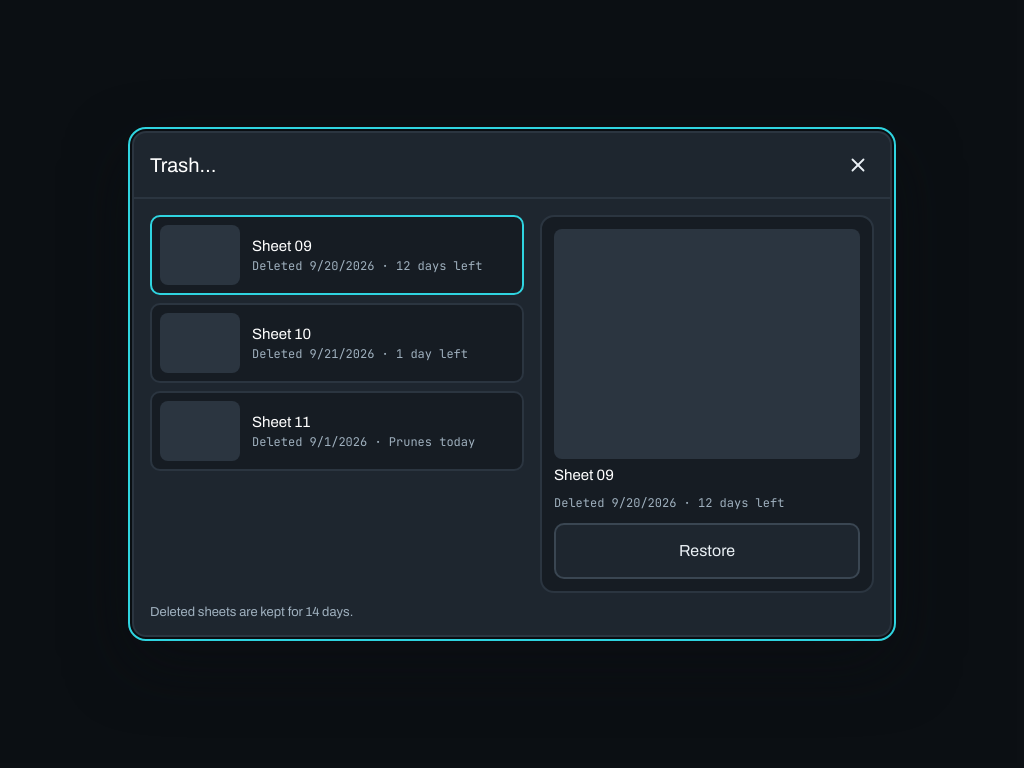
read-only preview + Restore (P §11.9:2029) › previews the newest row by default and switches on selection
The image size is (1024, 768).
Expected: the element named "Preview" shows "Sheet 09", [554,467,614,483]
Step 1. Click the button with test id "trash-row-t2" → (337, 343), box [150,303,524,383]
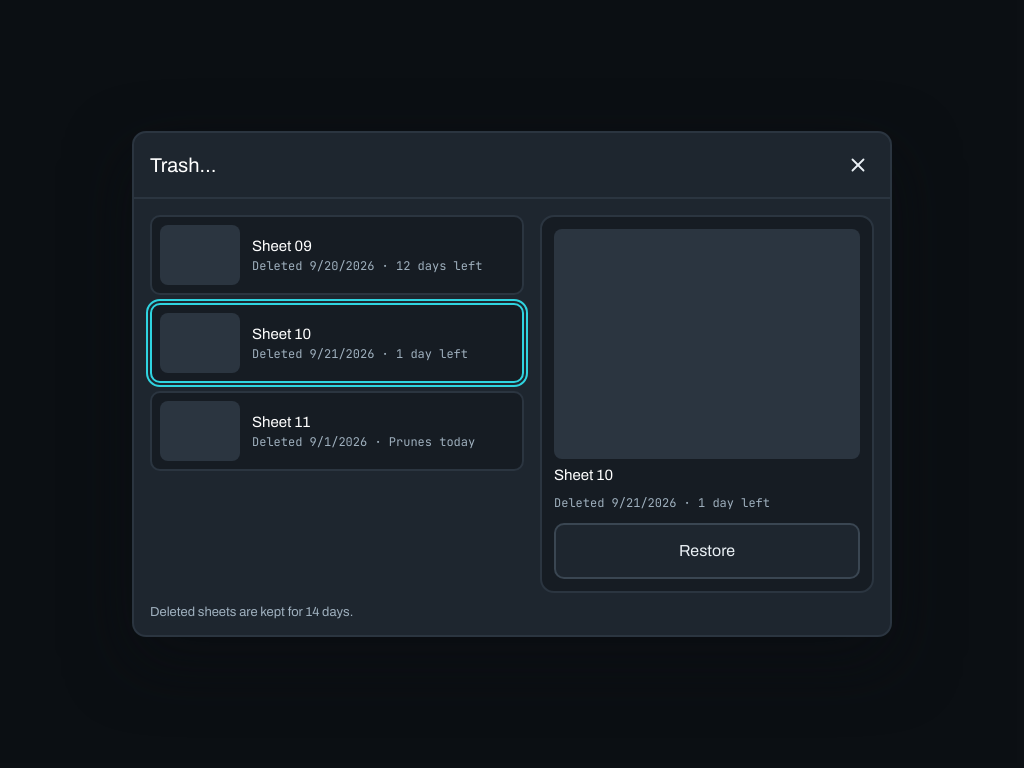
Now the element named "Preview" shows "Sheet 10", box [554,467,613,483]
